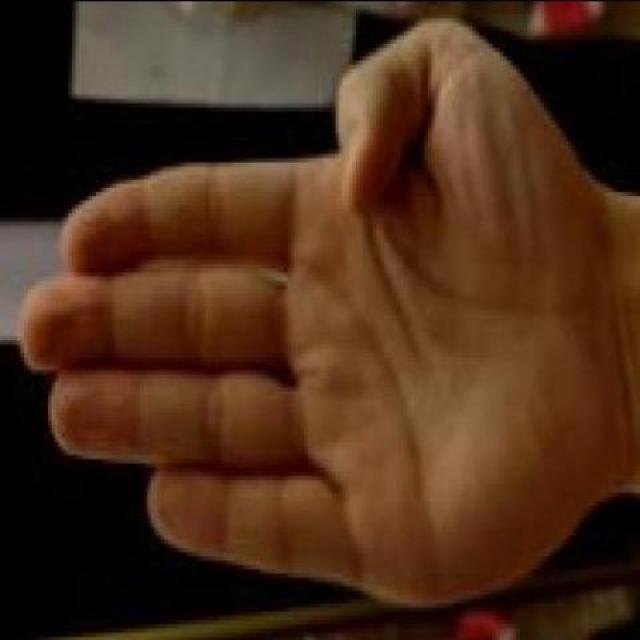Open Hand: (14, 11, 640, 608)
